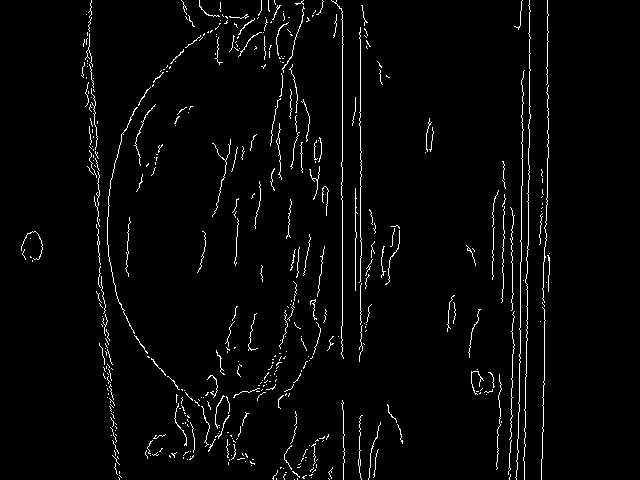red_onion: (104, 11, 337, 437)
